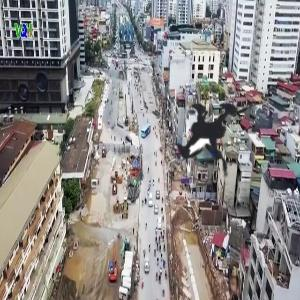drone: (124, 46, 288, 210)
